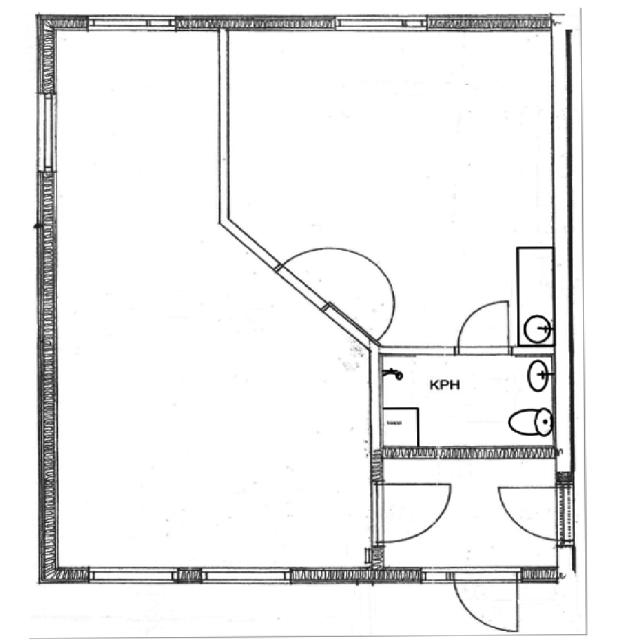door: (372, 482, 454, 547), (496, 480, 565, 548), (452, 569, 522, 636), (450, 293, 516, 360), (328, 243, 398, 305), (352, 304, 396, 349)
window: (26, 88, 64, 178), (84, 564, 178, 591), (82, 12, 182, 37), (196, 564, 296, 589), (332, 12, 430, 34), (418, 568, 455, 588)
zone: (376, 350, 560, 456), (372, 481, 454, 548), (514, 248, 560, 352)
